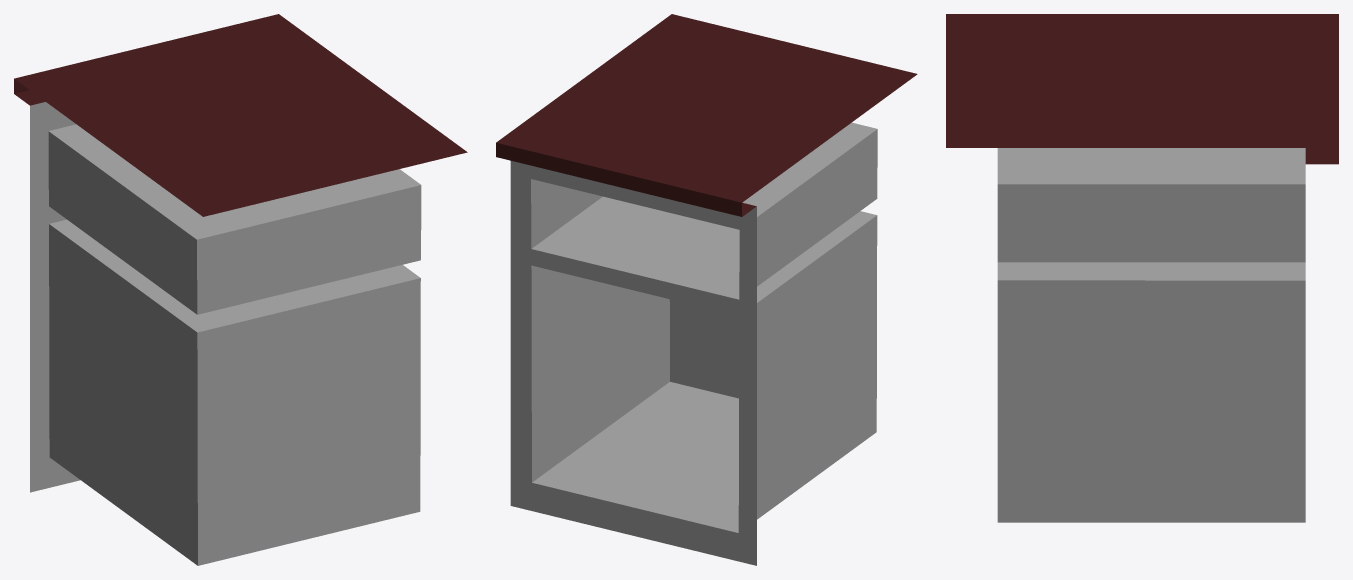
File: 1Draw1DoorCabinet.fbx
3 views of the same model, side by side, from view 1: azimuth 30°, elevation 25°; view 2: azimuth 150°, elevation 25°; view 3: azimuth 270°, elevation 25° (orthographic). The views are drawn at different scales.
Parts seen in each view (by area): view 1: polySurface80; view 2: polySurface80; view 3: polySurface80.
Boxes of the visible parts, box(x1,y1,x2,y2) form: polySurface80: box(14, 14, 467, 565); polySurface80: box(496, 14, 917, 565); polySurface80: box(946, 14, 1338, 522).
Size of the model in its own units: 1.5 by 2.18 by 1.86.
